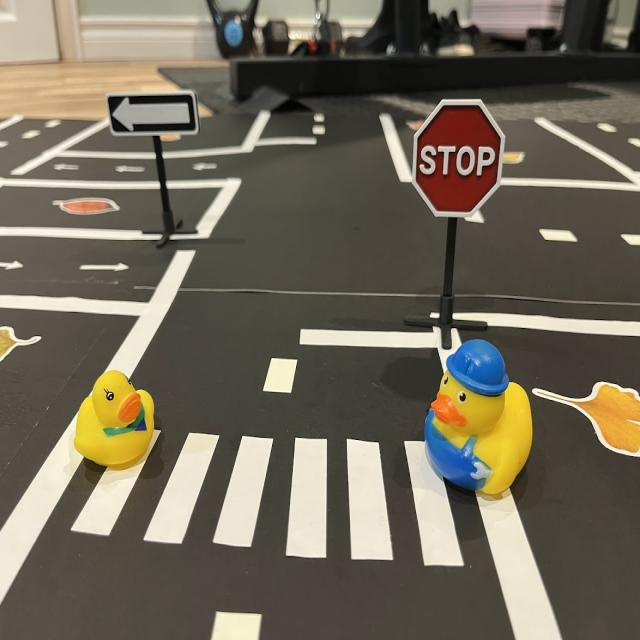duck_regular: (75, 369, 160, 474)
duck_specialty: (426, 341, 535, 501)
road_crosswalk: (62, 426, 473, 573)
road_oneway: (75, 257, 132, 278), (1, 254, 28, 279), (189, 158, 223, 177), (115, 161, 150, 176), (50, 160, 86, 174)
sign_oneway_left: (109, 92, 200, 136)
sign_stop: (413, 100, 506, 214)
